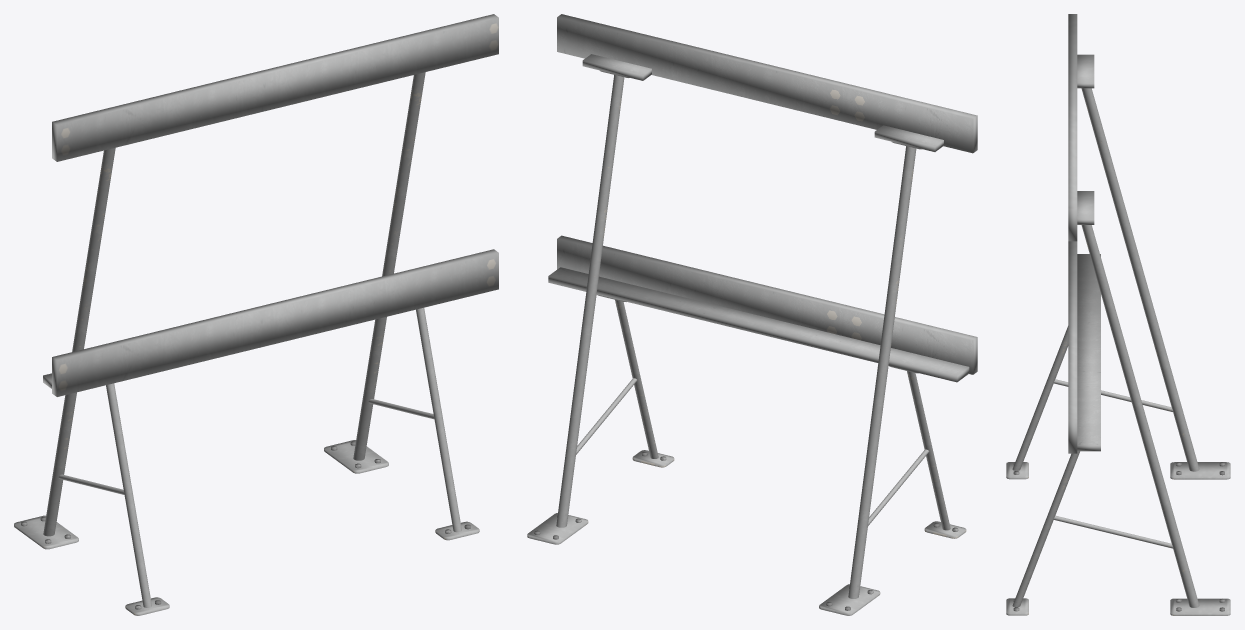
The model's file is LetterFastening.fbx.
The picture shows the model from 3 angles, left to right: view 1: azimuth 30°, elevation 25°; view 2: azimuth 150°, elevation 25°; view 3: azimuth 270°, elevation 25°; orthographic projection. The views are drawn at different scales.
Parts seen in each view (by area): view 1: SM_LetterFastening; view 2: SM_LetterFastening; view 3: SM_LetterFastening.
Boxes of the visible parts, box(x1,y1,x2,y2) form: SM_LetterFastening: box(14, 14, 498, 615); SM_LetterFastening: box(527, 14, 977, 615); SM_LetterFastening: box(1006, 14, 1230, 615).
Bounding box in the file's own units: 98.17 × 101 × 47.88.
